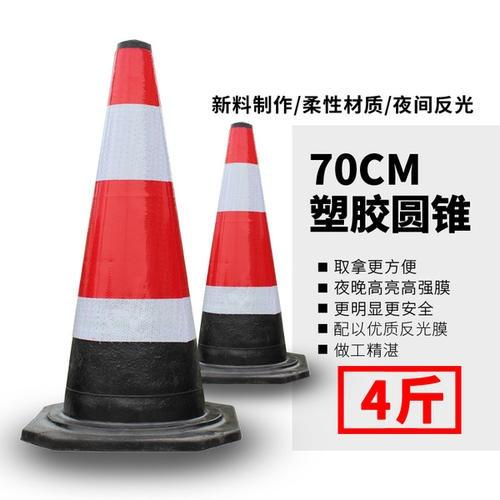cone_barrel: (39, 44, 216, 441), (189, 124, 302, 378)
